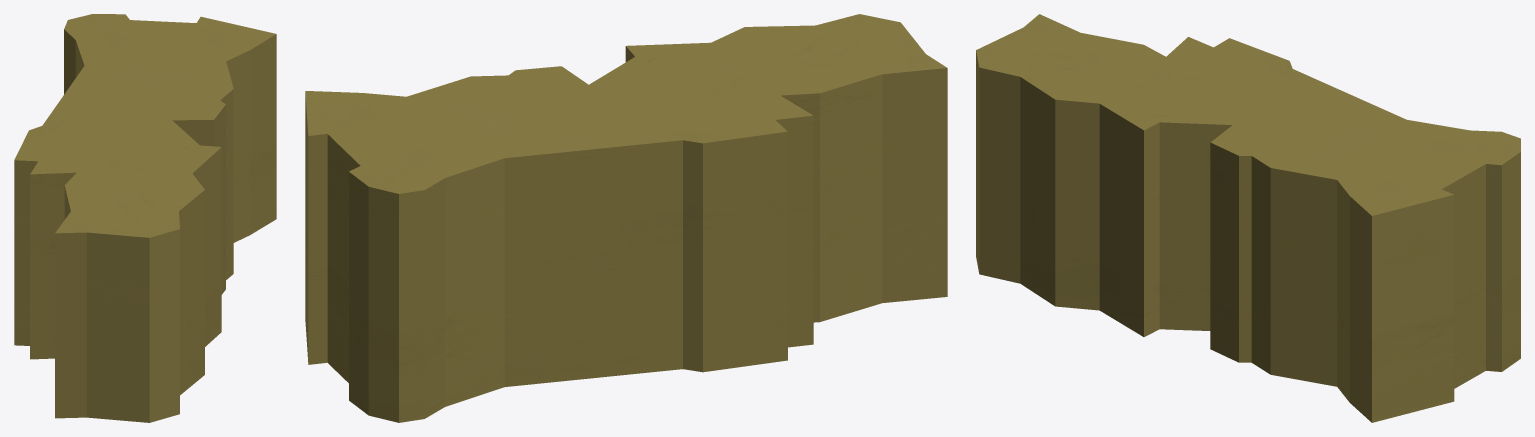
File: portugal.DAE
The picture shows the model from 3 angles, left to right: view 1: azimuth 30°, elevation 25°; view 2: azimuth 150°, elevation 25°; view 3: azimuth 270°, elevation 25°; orthographic projection. The views are drawn at different scales.
Visible parts, largest first — view 1: Portugal; view 2: Portugal; view 3: Portugal.
Boxes of the visible parts, bbox=[...] form: Portugal: bbox=[14, 14, 276, 422]; Portugal: bbox=[305, 14, 947, 422]; Portugal: bbox=[976, 14, 1520, 422].
Bounding box in the file's own units: 52.38 × 59.67 × 25.
1 material, 1 textured.
